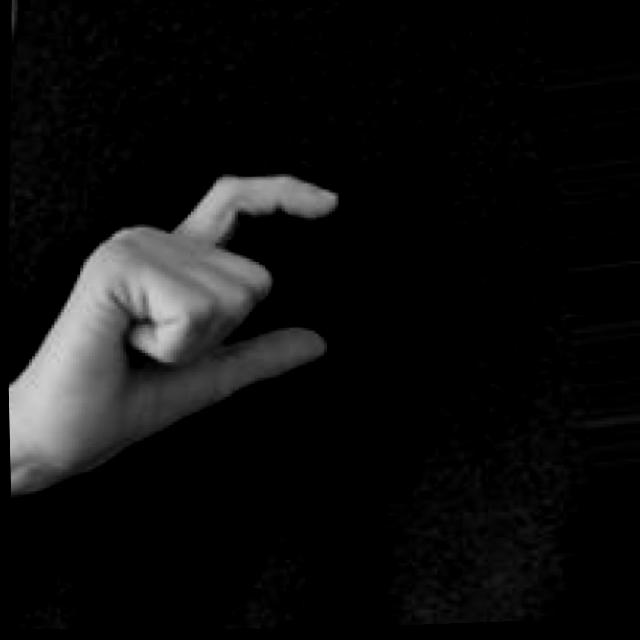C: (4, 154, 356, 521)
